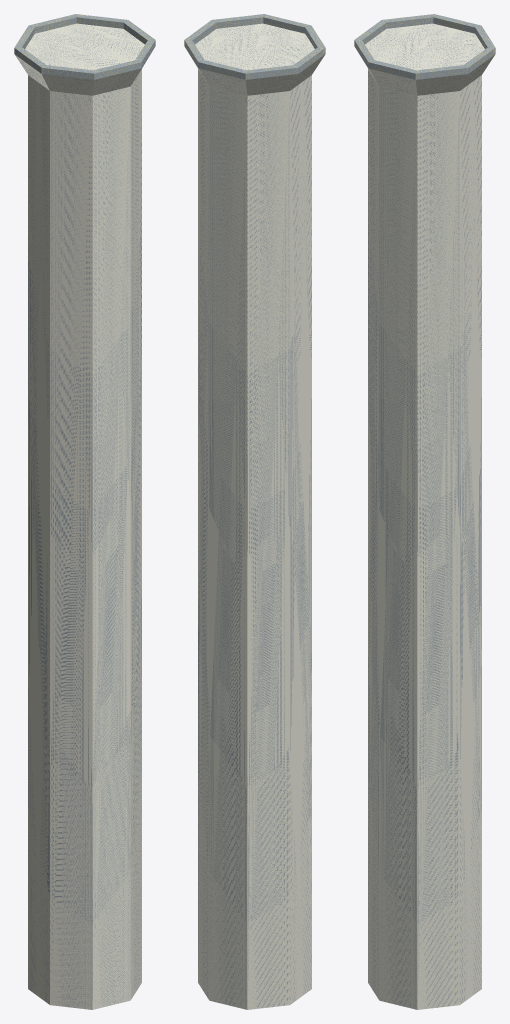
Rendered from Castle_Pillar_Small_01.fbx.
3 views of the same model, side by side, from view 1: azimuth 30°, elevation 25°; view 2: azimuth 150°, elevation 25°; view 3: azimuth 330°, elevation 25° (orthographic).
Parts seen in each view (by area): view 1: Model; view 2: Model; view 3: Model.
Boxes of the visible parts, x1=… form: Model: x1=14, y1=14, x2=155, y2=1009; Model: x1=184, y1=14, x2=325, y2=1009; Model: x1=354, y1=14, x2=495, y2=1009.
Size of the model in its own units: 301 by 2372 by 301.
